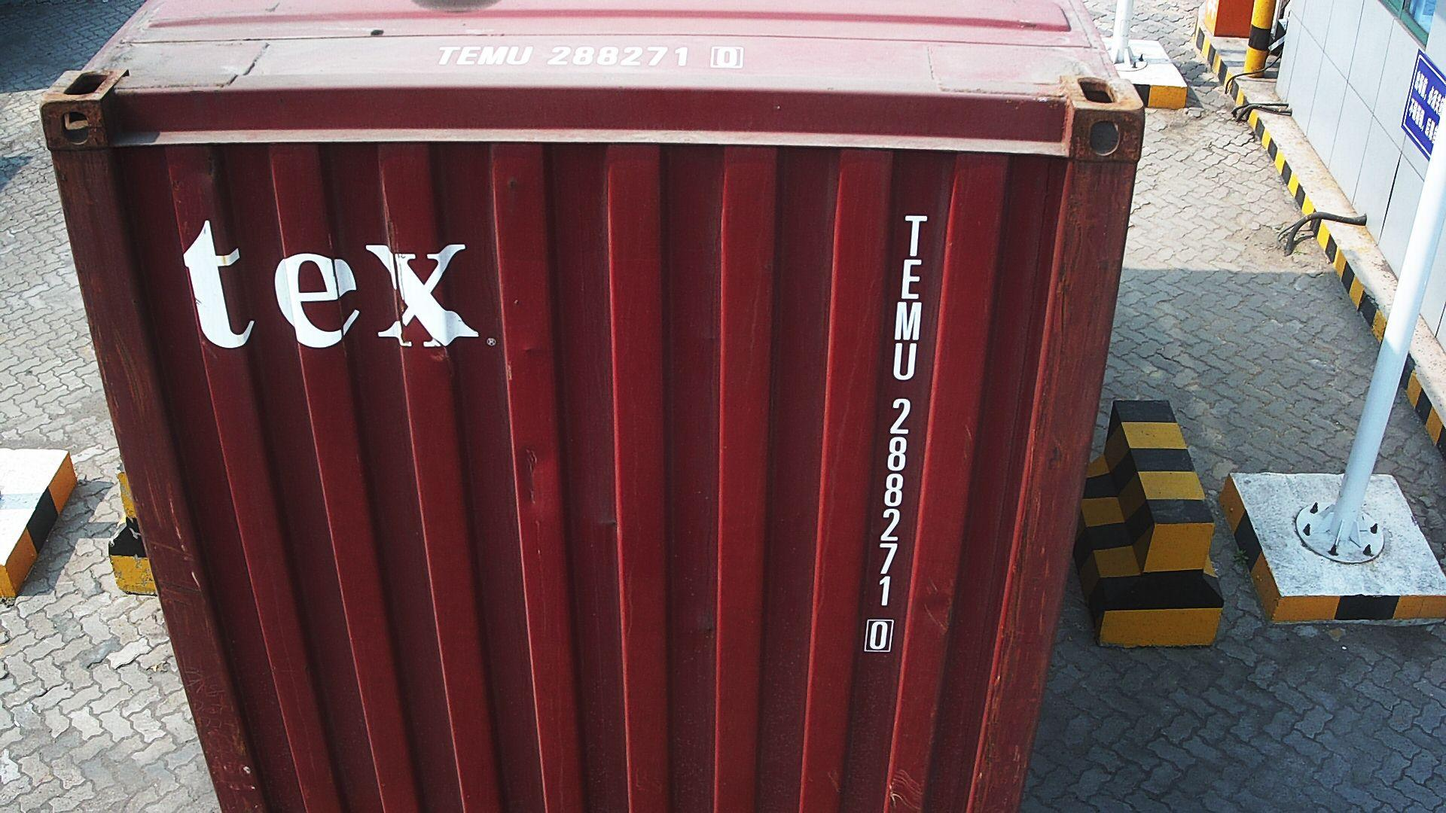container-numbers: (860, 210, 930, 657), (428, 41, 751, 72)
